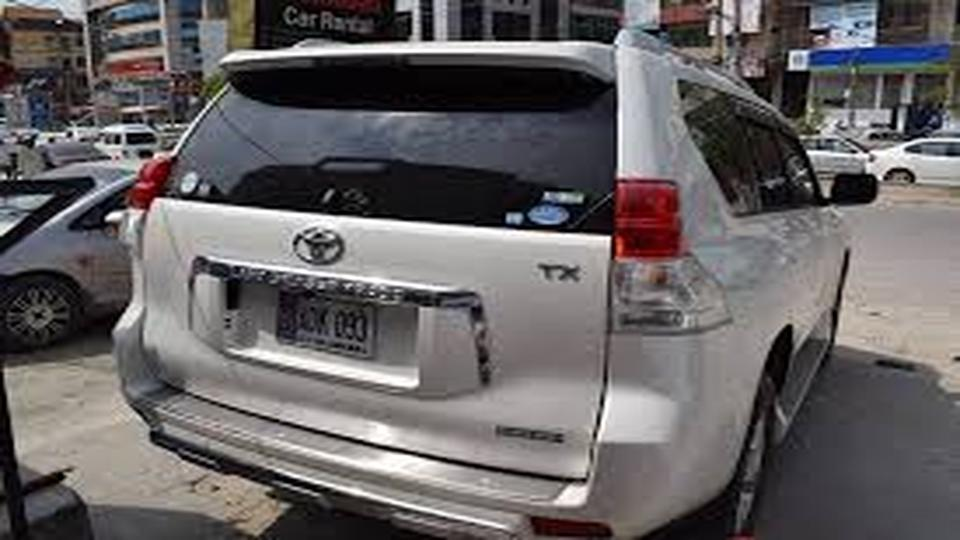NumberPlate: (262, 280, 378, 359)
